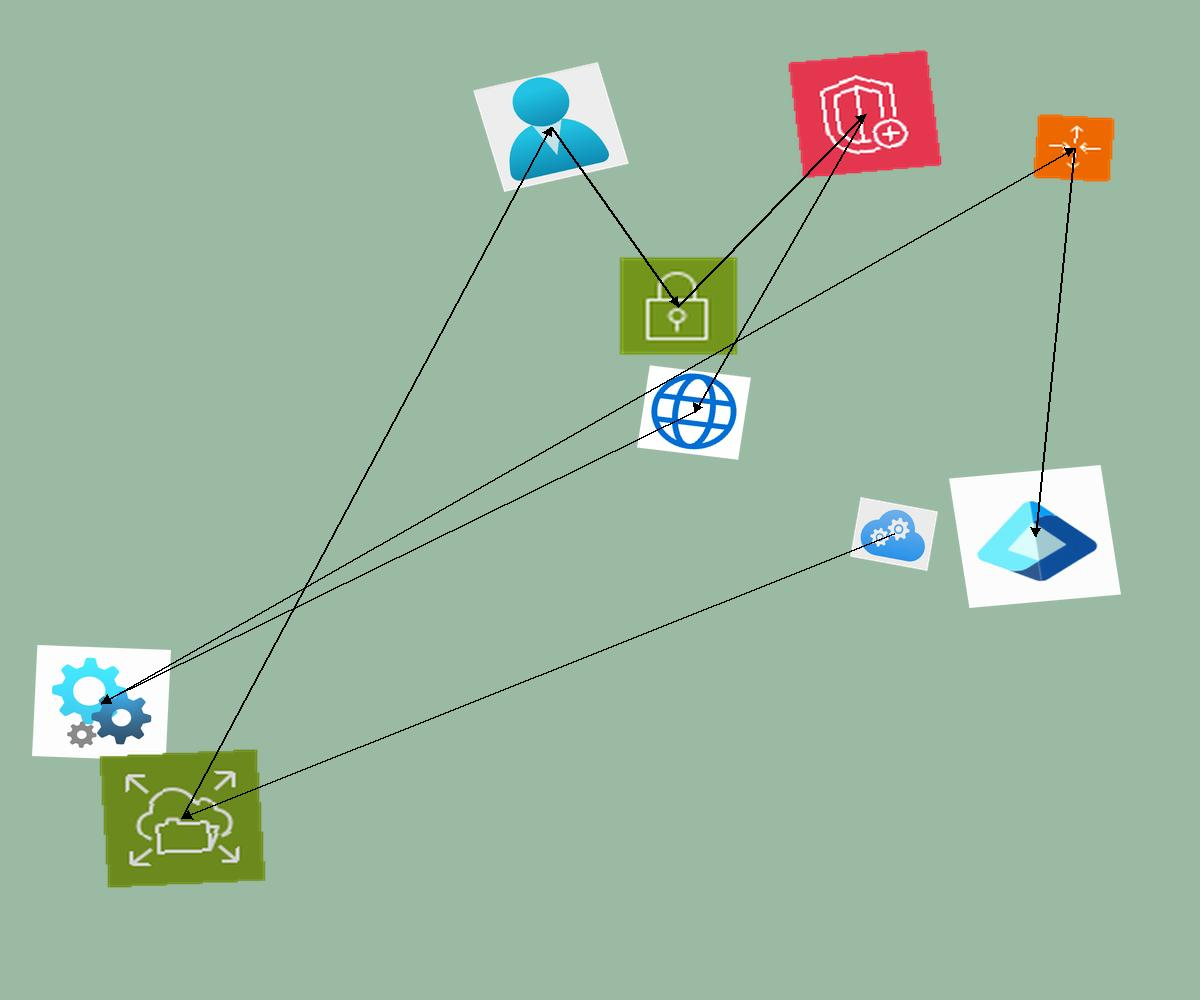AWS-EFS: (98, 748, 267, 889)
AWS-Public-subnet: (617, 255, 740, 357)
AWS-Scaling-group: (1032, 113, 1116, 183)
AWS-Shield: (787, 49, 943, 179)
Azure_api: (32, 645, 171, 761)
Azure_cloud_services: (850, 497, 938, 571)
Azure_http: (637, 365, 751, 460)
Azure_microsoft_entra: (949, 465, 1121, 608)
Azure_users: (473, 62, 629, 192)
